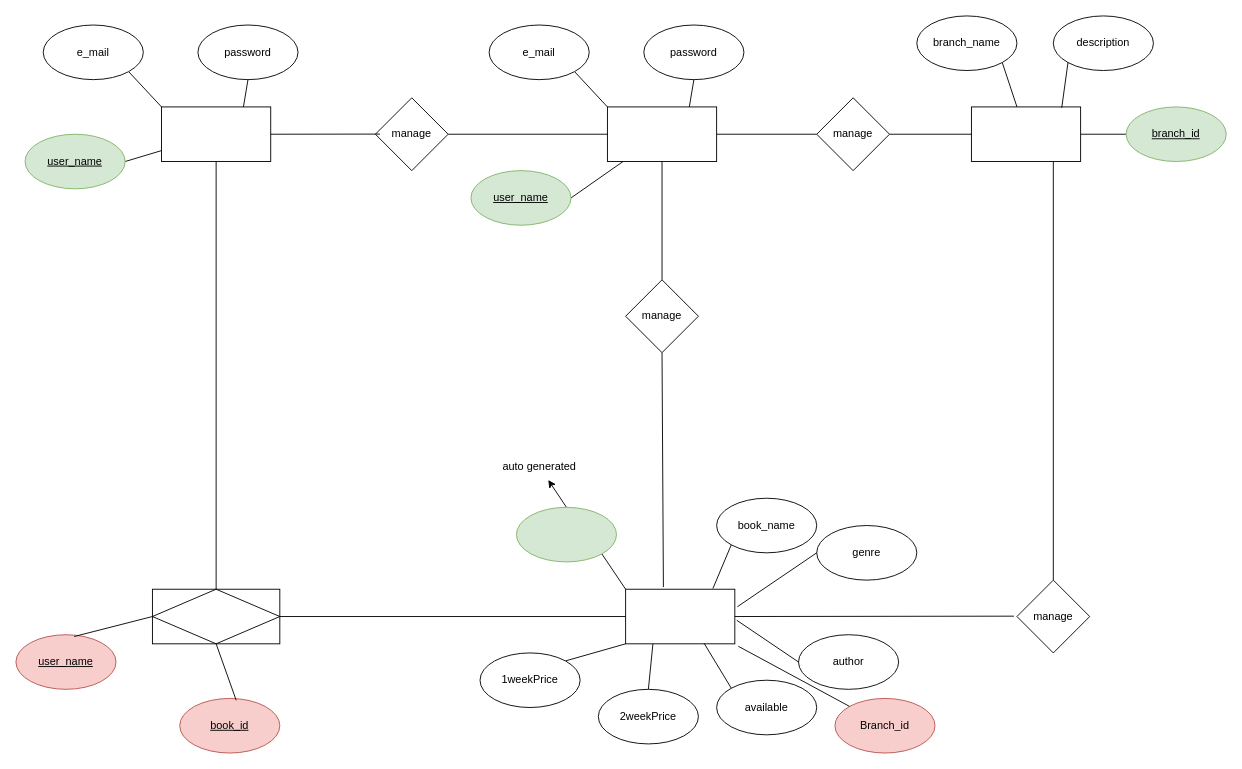
This 1242x769 diagram has some shape labels left out. Each missing label, with the centre of its shape:
"admin" belongs at point (662, 134).
"barrow_book" belongs at point (216, 616).
"books" belongs at point (680, 616).
"branchers" belongs at point (1026, 134).
"id" belongs at point (566, 534).
"user" belongs at point (216, 134).
